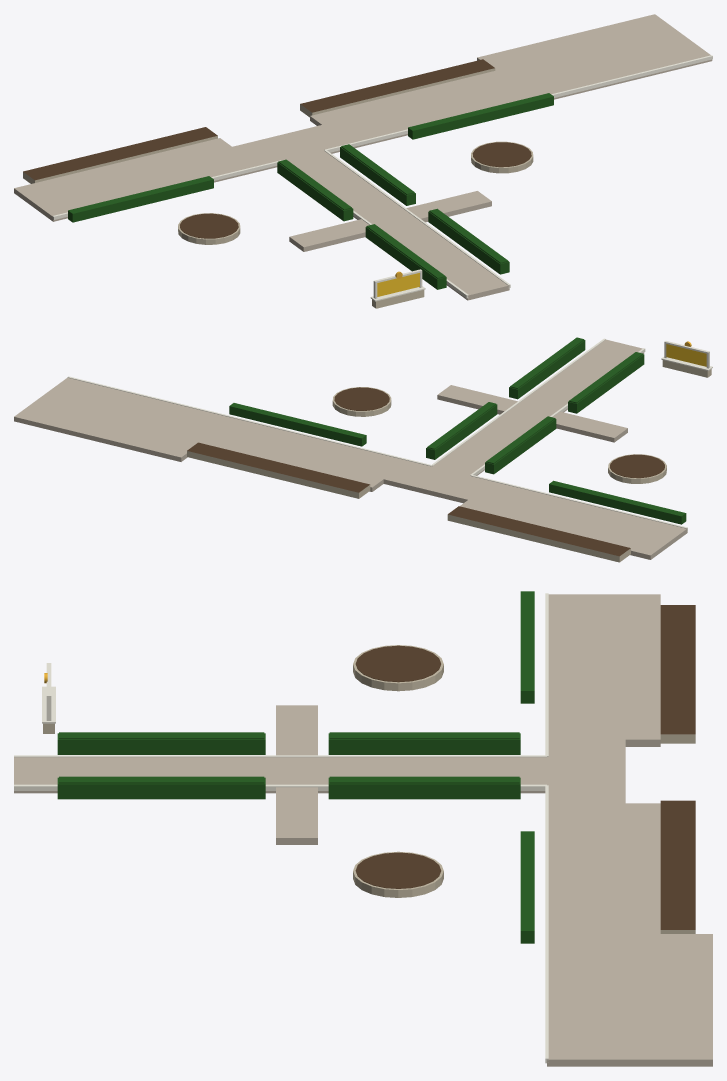
Rendered from SM_Ra_Grounds.fbx.
3 renders of one model, top to bottom at view 1: azimuth 30°, elevation 25°; view 2: azimuth 150°, elevation 25°; view 3: azimuth 270°, elevation 25°, orthographic. The views are drawn at different scales.
Visible parts, largest first — view 1: SM_Ra_Grounds; view 2: SM_Ra_Grounds; view 3: SM_Ra_Grounds.
Part boxes in pixels (x1,y1,x2,y2): SM_Ra_Grounds: (14, 14, 712, 308); SM_Ra_Grounds: (14, 337, 712, 562); SM_Ra_Grounds: (14, 591, 712, 1066).
Size of the model in its own units: 63 by 3.15 by 40.
